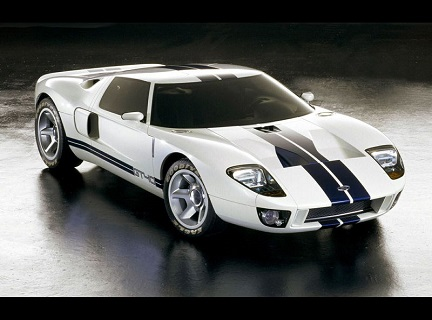福特-GT: (30, 52, 412, 250)
